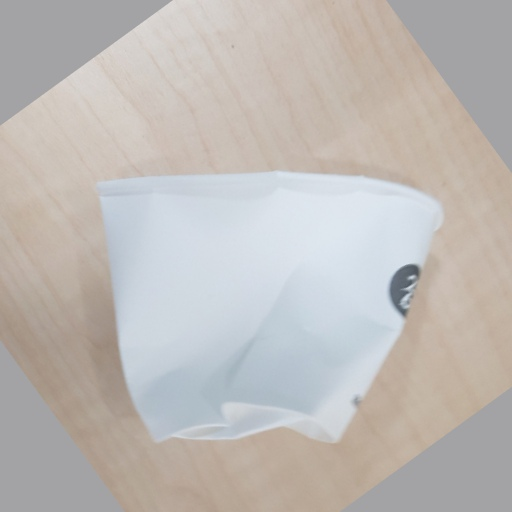Paper_1: (96, 170, 442, 449)
